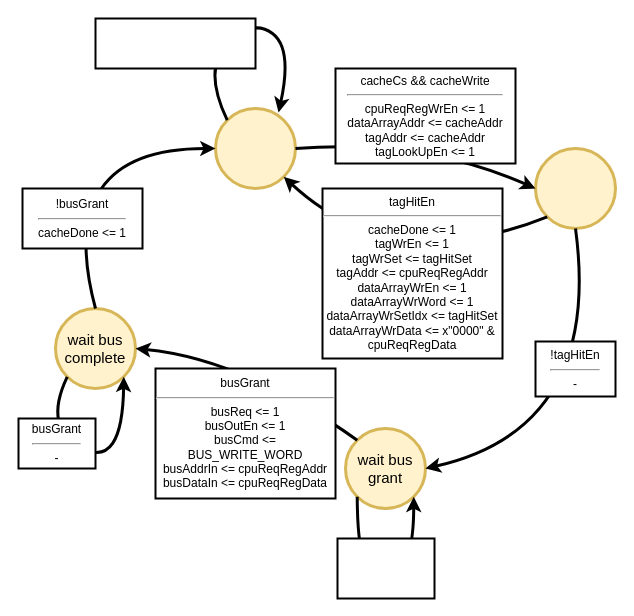
The diagram is 634 pixels wide and 616 high, and some of its shapes have lost their labels. The shapes that lost their labels are listed below. From the top down, each one's box as (x1, y1, x2, y2) in pixels, then its label:
(94, 17, 256, 69): !(cacheCs && cacheWrite) -
(214, 106, 296, 190): idle
(534, 146, 616, 230): hit test
(336, 537, 435, 599): !busGrant busReq <= 1
